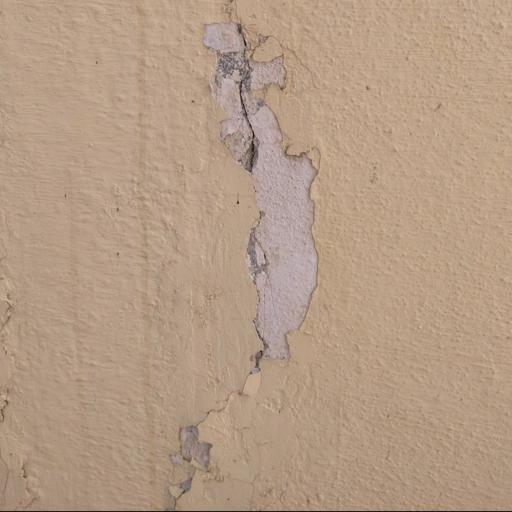peeling: (170, 0, 339, 512)
